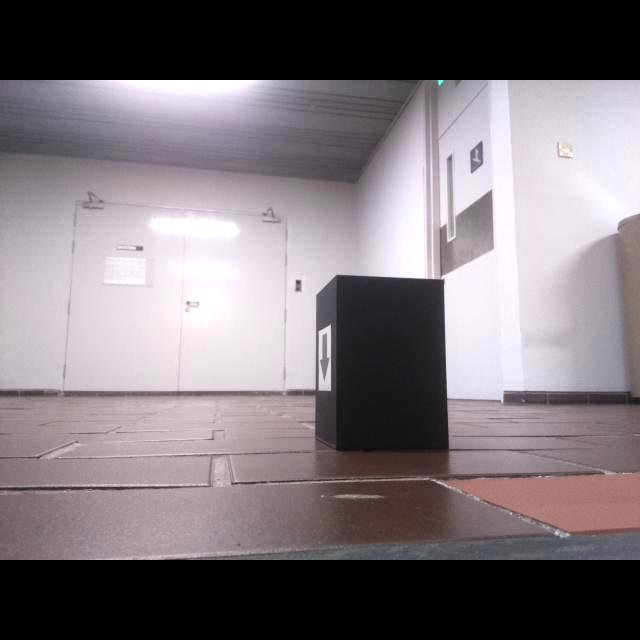DOWN: (319, 332, 330, 384)
